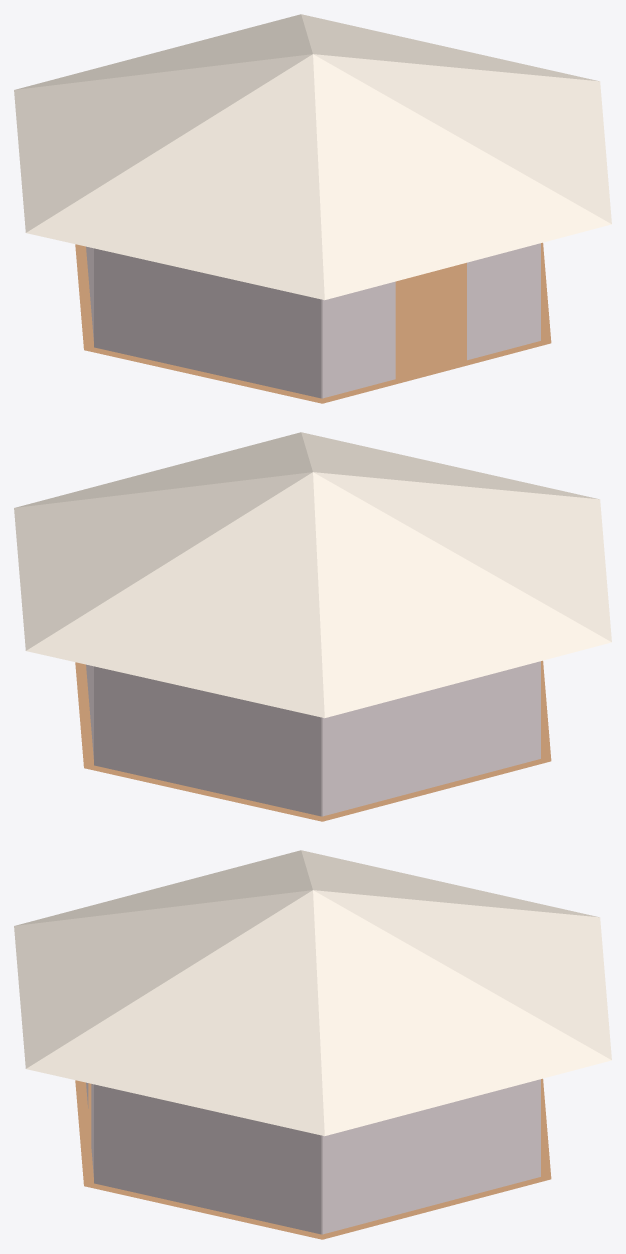
Rendered from zon_room_poems_raw.glb.
The picture shows the model from 3 angles, top to bottom: view 1: azimuth 30°, elevation 25°; view 2: azimuth 150°, elevation 25°; view 3: azimuth 270°, elevation 25°; orthographic projection.
Visible parts, largest first — view 1: SM_zon_room_poems_room_ceiling_xm1_zm1_raw, SM_zon_room_poems_room_paper_xm1_zm1_raw, SM_zon_room_poems_room_floor_xm1_zm1_raw; view 2: SM_zon_room_poems_room_ceiling_xm1_zm1_raw, SM_zon_room_poems_room_paper_xm1_zm1_raw, SM_zon_room_poems_room_floor_xm1_zm1_raw; view 3: SM_zon_room_poems_room_ceiling_xm1_zm1_raw, SM_zon_room_poems_room_paper_xm1_zm1_raw, SM_zon_room_poems_room_floor_xm1_zm1_raw.
Boxes of the visible parts, x1,y1,x2,y2 form: SM_zon_room_poems_room_ceiling_xm1_zm1_raw: (14, 14, 611, 300); SM_zon_room_poems_room_paper_xm1_zm1_raw: (86, 243, 540, 398); SM_zon_room_poems_room_floor_xm1_zm1_raw: (75, 242, 551, 403); SM_zon_room_poems_room_ceiling_xm1_zm1_raw: (14, 432, 611, 718); SM_zon_room_poems_room_paper_xm1_zm1_raw: (86, 661, 540, 816); SM_zon_room_poems_room_floor_xm1_zm1_raw: (75, 660, 551, 821); SM_zon_room_poems_room_ceiling_xm1_zm1_raw: (14, 850, 611, 1136); SM_zon_room_poems_room_paper_xm1_zm1_raw: (86, 1079, 540, 1234); SM_zon_room_poems_room_floor_xm1_zm1_raw: (75, 1078, 551, 1239).
Size of the model in its own units: 15.29 by 5.9 by 13.51.
